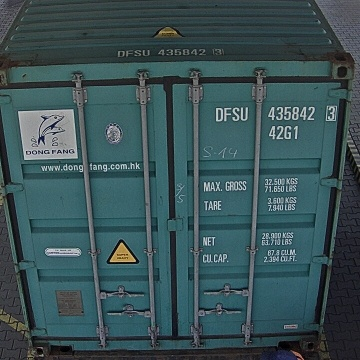serial_id: (215, 105, 336, 121)
